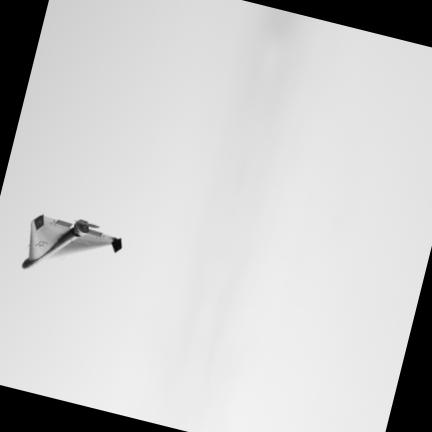Shahed: (21, 215, 120, 268)
